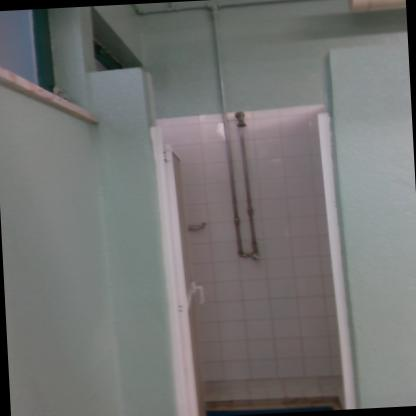open: (138, 84, 352, 416)
